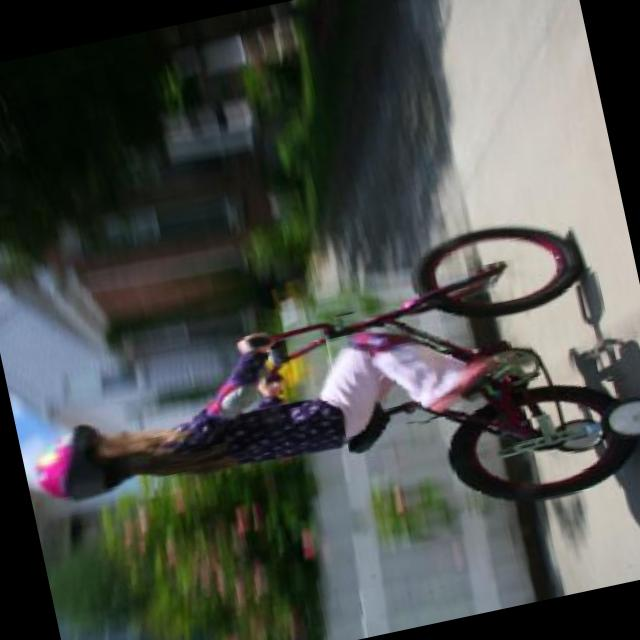With Helmet: (24, 416, 142, 514)
